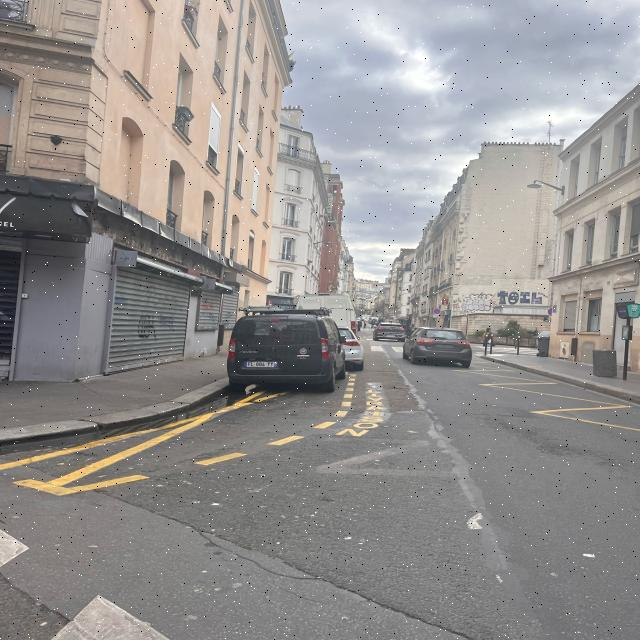Autre: (434, 343, 456, 348), (384, 334, 398, 338)
EU: (242, 361, 278, 368)
France: (242, 360, 248, 368)
